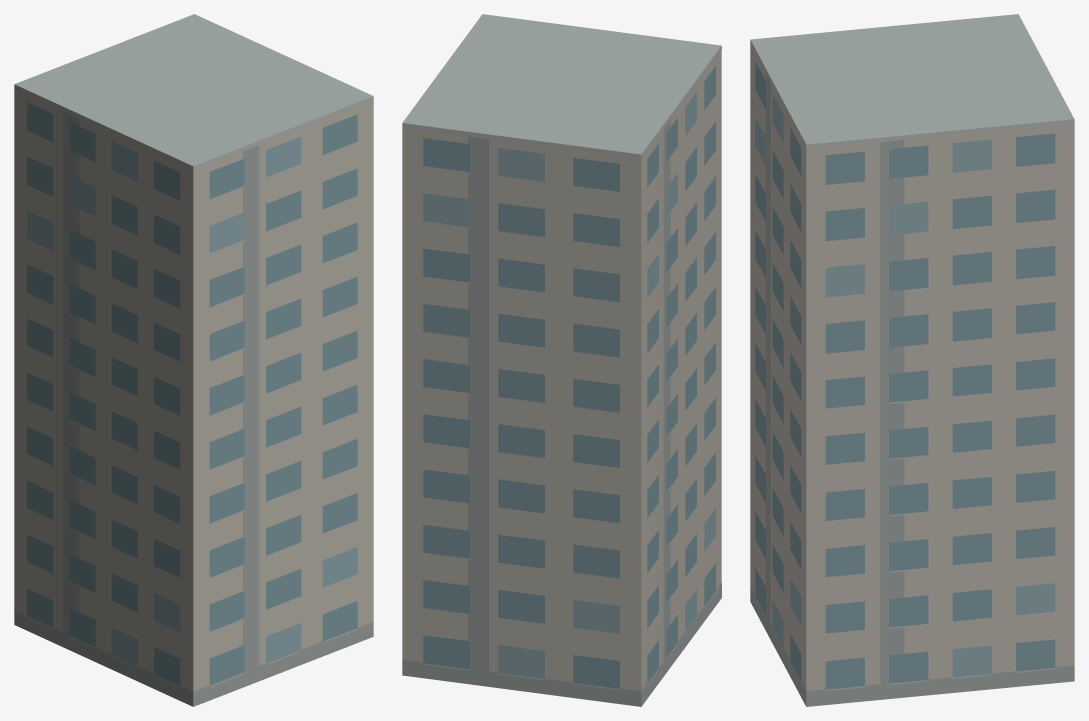
The model's file is residential-52f9e0f9-167b-49c7-82cd-df5fe2267553.glb.
3 views of the same model, side by side, from view 1: azimuth 30°, elevation 25°; view 2: azimuth 150°, elevation 25°; view 3: azimuth 270°, elevation 25° (orthographic). The views are drawn at different scales.
Parts seen in each view (by area): view 1: residential-52f9e0f9-167b-49c7-82cd-df5fe2267553.tmp; view 2: residential-52f9e0f9-167b-49c7-82cd-df5fe2267553.tmp; view 3: residential-52f9e0f9-167b-49c7-82cd-df5fe2267553.tmp.
Part boxes in pixels (<box>): residential-52f9e0f9-167b-49c7-82cd-df5fe2267553.tmp: <box>14,14,373,706</box>; residential-52f9e0f9-167b-49c7-82cd-df5fe2267553.tmp: <box>402,14,721,706</box>; residential-52f9e0f9-167b-49c7-82cd-df5fe2267553.tmp: <box>750,14,1074,706</box>.
Size of the model in its own units: 14.46 by 29 by 15.16.
